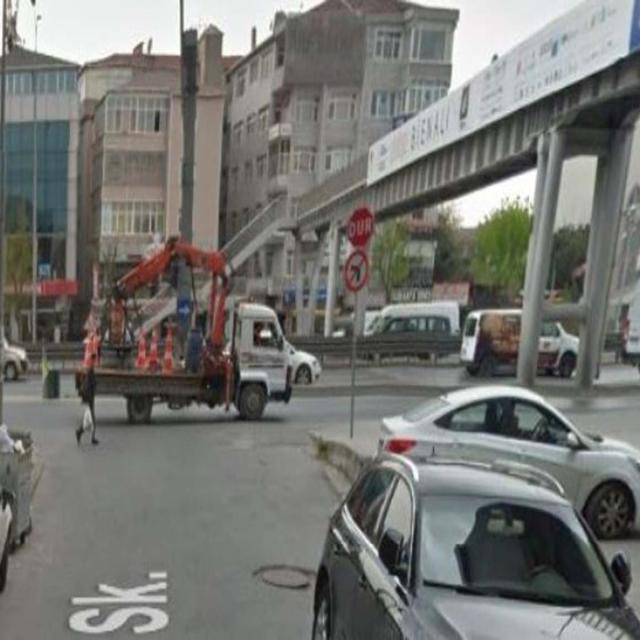dur: (346, 208, 373, 248)
soladonulmez: (345, 251, 368, 292)
